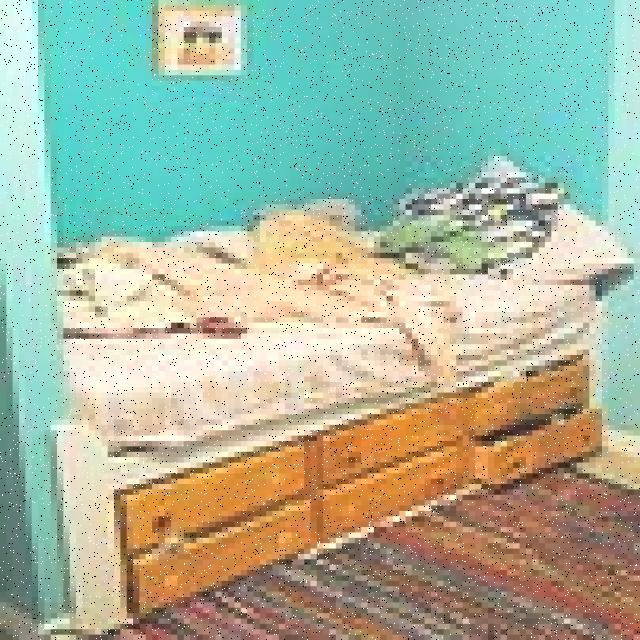bed: (57, 173, 611, 430)
